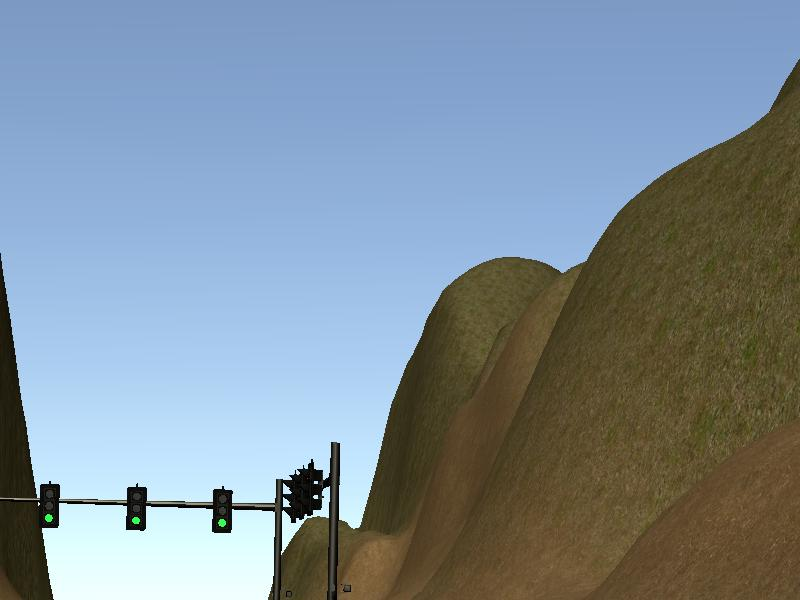Green: (39, 483, 58, 527), (128, 488, 147, 530), (214, 490, 230, 533)
